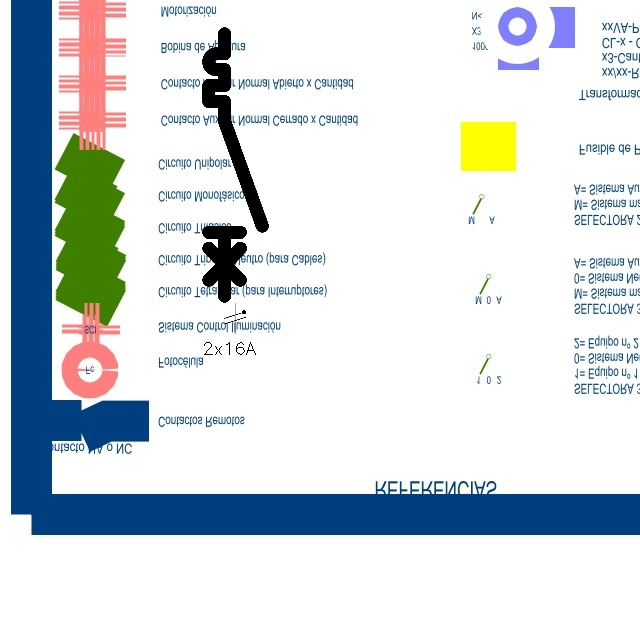interruptor_termomagnetico: (202, 27, 269, 303)
